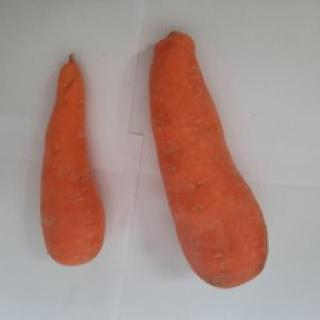carrot: (150, 33, 268, 289), (41, 56, 105, 266)
